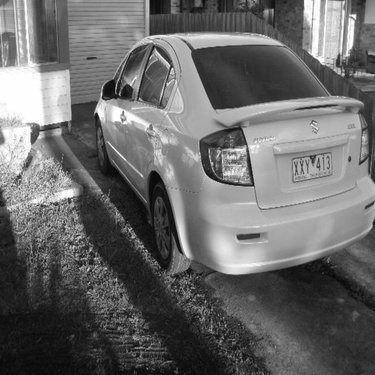car: (75, 12, 360, 297)
